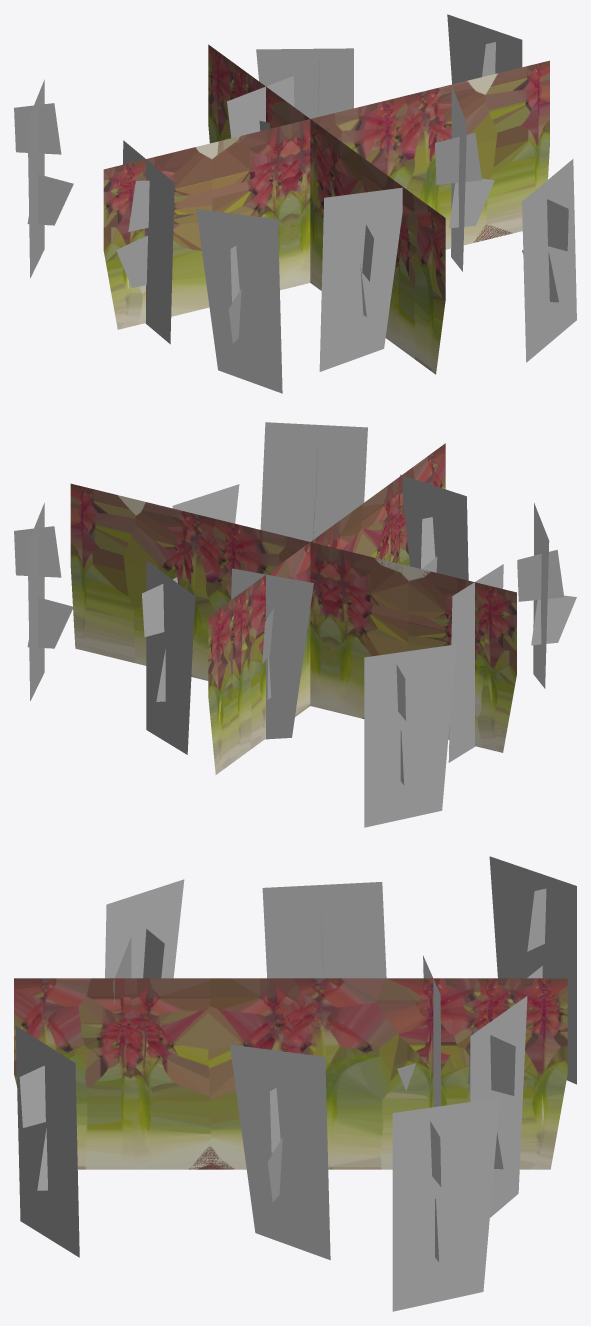
The model's file is Grass2.fbx.
The picture shows the model from 3 angles, top to bottom: view 1: azimuth 30°, elevation 25°; view 2: azimuth 150°, elevation 25°; view 3: azimuth 270°, elevation 25°; orthographic projection. The views are drawn at different scales.
Parts seen in each view (by area): view 1: LOD0, Billboard; view 2: Billboard, LOD0; view 3: LOD0, Billboard.
Boxes of the visible parts, x1=… form: LOD0: x1=14, y1=14, x2=576, y2=393; Billboard: x1=103, y1=44, x2=549, y2=374; Billboard: x1=70, y1=443, x2=516, y2=774; LOD0: x1=14, y1=422, x2=576, y2=827; LOD0: x1=15, y1=856, x2=576, y2=1311; Billboard: x1=14, y1=978, x2=567, y2=1169.
Size of what is drawn, in the model's own units: 291 by 105 by 262.
